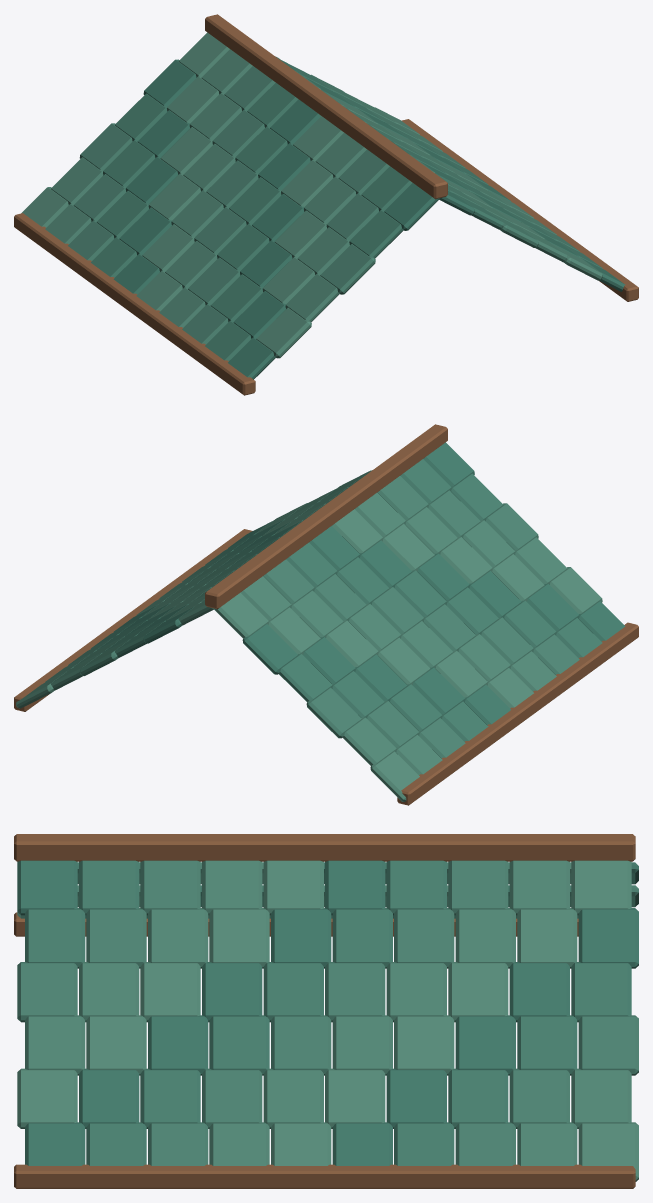
Rendered from Roof_Gabled_4x4.glb.
3 renders of one model, top to bottom at view 1: azimuth 30°, elevation 25°; view 2: azimuth 150°, elevation 25°; view 3: azimuth 270°, elevation 25°, orthographic. The views are drawn at different scales.
Visible parts, largest first — view 1: Roof_Gabled_4x4__立方体.122, Roof_Gabled_4x4__立方体.060, Roof_Gabled_4x4__立方体.121, Roof_Gabled_4x4__立方体.020, Roof_Gabled_4x4__立方体.040, Roof_Gabled_4x4__立方体.010, Roof_Gabled_4x4__立方体.030, Roof_Gabled_4x4__立方体.026, Roof_Gabled_4x4__立方体.011, Roof_Gabled_4x4__立方体.044, Roof_Gabled_4x4__立方体, Roof_Gabled_4x4__立方体.042 (+51 smaller); view 2: Roof_Gabled_4x4__立方体.122, Roof_Gabled_4x4__立方体.060, Roof_Gabled_4x4__立方体.121, Roof_Gabled_4x4__立方体.019, Roof_Gabled_4x4__立方体.039, Roof_Gabled_4x4__立方体.049, Roof_Gabled_4x4__立方体.029, Roof_Gabled_4x4__立方体.036, Roof_Gabled_4x4__立方体.020, Roof_Gabled_4x4__立方体.012, Roof_Gabled_4x4__立方体.042, Roof_Gabled_4x4__立方体.014 (+51 smaller); view 3: Roof_Gabled_4x4__立方体.122, Roof_Gabled_4x4__立方体.121, Roof_Gabled_4x4__立方体.081, Roof_Gabled_4x4__立方体.080, Roof_Gabled_4x4__立方体.100, Roof_Gabled_4x4__立方体.101, Roof_Gabled_4x4__立方体.092, Roof_Gabled_4x4__立方体.072, Roof_Gabled_4x4__立方体.074, Roof_Gabled_4x4__立方体.076, Roof_Gabled_4x4__立方体.078, Roof_Gabled_4x4__立方体.089 (+51 smaller).
Part boxes in pixels (left/top/right/bottom): Roof_Gabled_4x4__立方体.122: left=205, top=14, right=447, bottom=199; Roof_Gabled_4x4__立方体.060: left=14, top=213, right=255, bottom=395; Roof_Gabled_4x4__立方体.121: left=401, top=119, right=638, bottom=301; Roof_Gabled_4x4__立方体.020: left=320, top=244, right=375, bottom=294; Roof_Gabled_4x4__立方体.040: left=256, top=307, right=311, bottom=358; Roof_Gabled_4x4__立方体.010: left=349, top=210, right=403, bottom=258; Roof_Gabled_4x4__立方体.030: left=285, top=273, right=339, bottom=322; Roof_Gabled_4x4__立方体.026: left=183, top=143, right=235, bottom=191; Roof_Gabled_4x4__立方体.011: left=326, top=193, right=378, bottom=240; Roof_Gabled_4x4__立方体.044: left=165, top=241, right=217, bottom=288; Roof_Gabled_4x4__立方体: left=384, top=183, right=439, bottom=230; Roof_Gabled_4x4__立方体.042: left=210, top=274, right=263, bottom=321; Roof_Gabled_4x4__立方体.122: left=205, top=424, right=447, bottom=609; Roof_Gabled_4x4__立方体.060: left=397, top=622, right=638, bottom=805; Roof_Gabled_4x4__立方体.121: left=14, top=529, right=252, bottom=711; Roof_Gabled_4x4__立方体.019: left=242, top=624, right=298, bottom=674; Roof_Gabled_4x4__立方体.039: left=306, top=687, right=361, bottom=738; Roof_Gabled_4x4__立方体.049: left=342, top=717, right=396, bottom=765; Roof_Gabled_4x4__立方体.029: left=279, top=653, right=332, bottom=702; Roof_Gabled_4x4__立方体.036: left=378, top=637, right=430, bottom=685; Roof_Gabled_4x4__立方体.020: left=486, top=503, right=538, bottom=550; Roof_Gabled_4x4__立方体.012: left=405, top=507, right=457, bottom=554; Roof_Gabled_4x4__立方体.042: left=504, top=600, right=556, bottom=647; Roof_Gabled_4x4__立方体.014: left=359, top=540, right=412, bottom=587; Roof_Gabled_4x4__立方体.122: left=14, top=834, right=635, bottom=861; Roof_Gabled_4x4__立方体.121: left=14, top=1164, right=635, bottom=1188; Roof_Gabled_4x4__立方体.081: left=17, top=962, right=77, bottom=1022; Roof_Gabled_4x4__立方体.080: left=578, top=908, right=638, bottom=968; Roof_Gabled_4x4__立方体.100: left=578, top=1015, right=638, bottom=1075; Roof_Gabled_4x4__立方体.101: left=17, top=1068, right=77, bottom=1128; Roof_Gabled_4x4__立方体.092: left=86, top=1015, right=146, bottom=1075; Roof_Gabled_4x4__立方体.072: left=86, top=908, right=146, bottom=968; Roof_Gabled_4x4__立方体.074: left=209, top=908, right=269, bottom=968; Roof_Gabled_4x4__立方体.076: left=332, top=908, right=392, bottom=968; Roof_Gabled_4x4__立方体.078: left=455, top=908, right=515, bottom=968; Roof_Gabled_4x4__立方体.089: left=509, top=962, right=569, bottom=1022.
Bounding box in the file's own units: 4.96 × 1.97 × 5.03.
